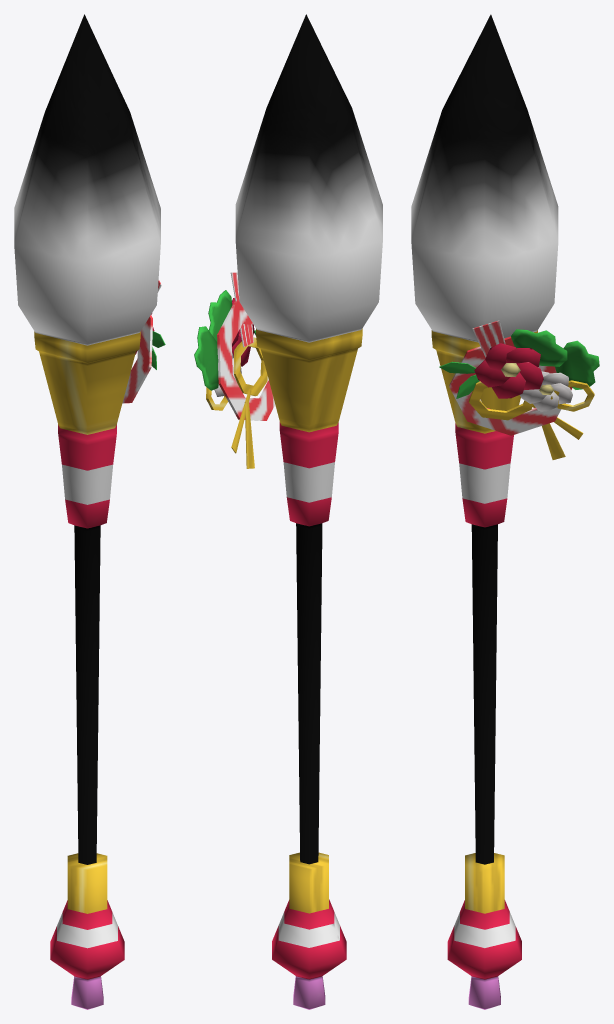
Rendered from SwordObject_3d_011.fbx.
3 views of the same model, side by side, from view 1: azimuth 30°, elevation 25°; view 2: azimuth 150°, elevation 25°; view 3: azimuth 270°, elevation 25° (orthographic).
Visible parts, largest first — view 1: Circle; view 2: Circle; view 3: Circle.
Boxes of the visible parts, bbox=[...] form: Circle: bbox=[14, 14, 165, 1009]; Circle: bbox=[194, 14, 382, 1009]; Circle: bbox=[411, 14, 599, 1009].
Size of the model in its own units: 0.6169 by 3.99 by 0.6841.
